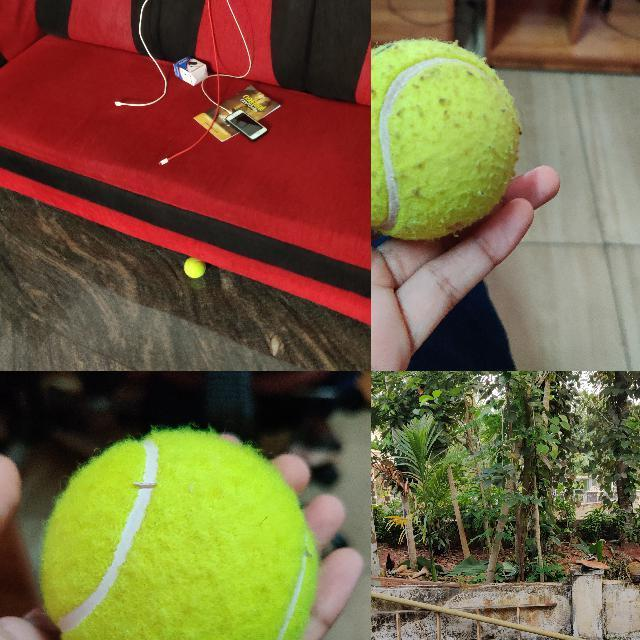tennis-ball: (39, 431, 315, 639), (371, 37, 522, 241), (183, 262, 206, 278)
